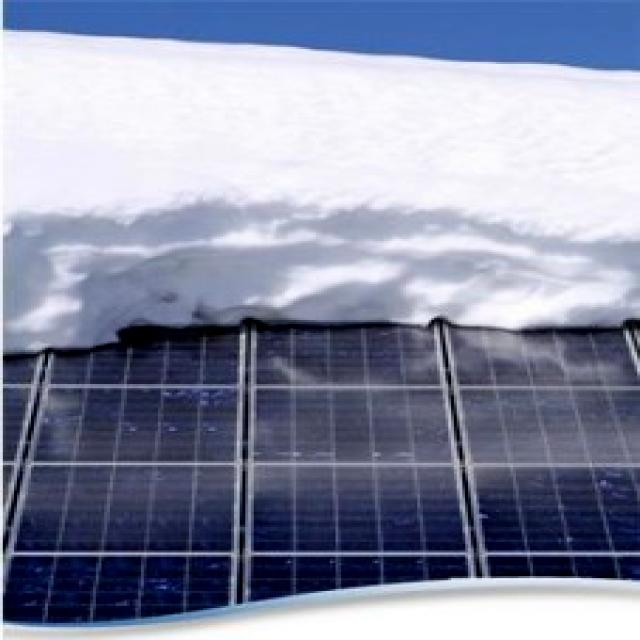panel: (0, 157, 626, 337)
